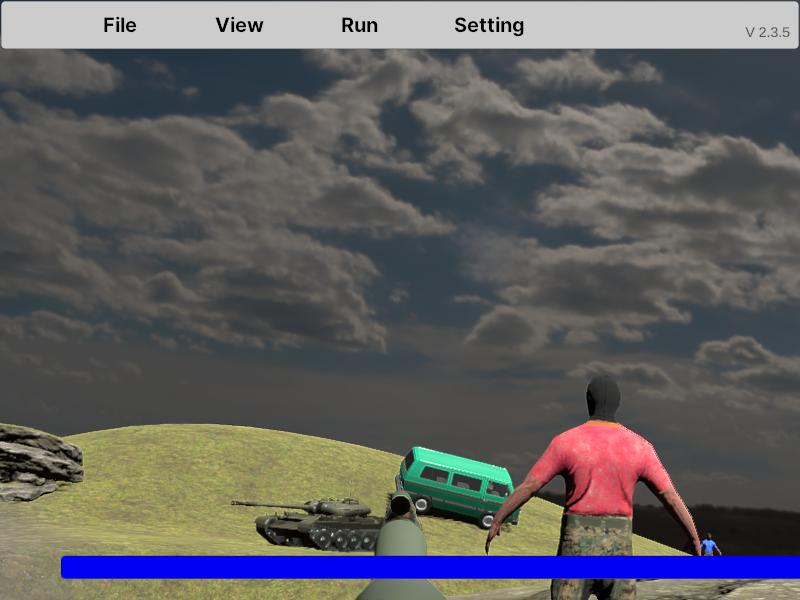Human: (485, 367, 703, 599)
Tank: (230, 496, 394, 553)
car: (396, 446, 515, 531)
